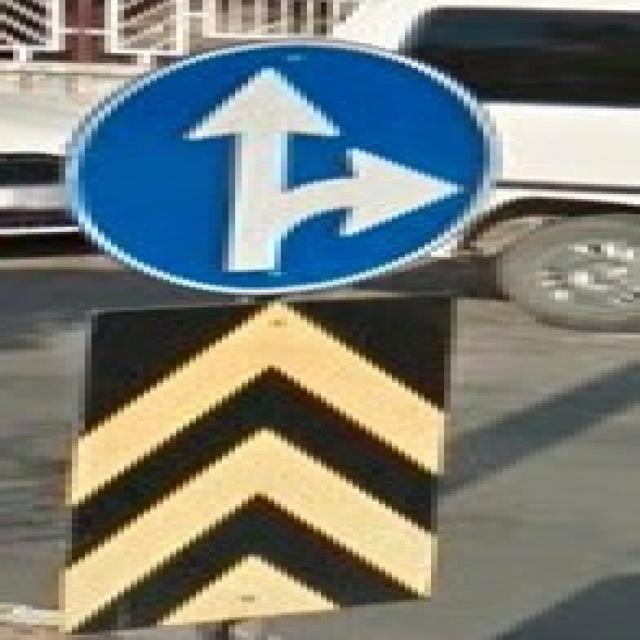Straight or Right: (76, 37, 494, 294)
